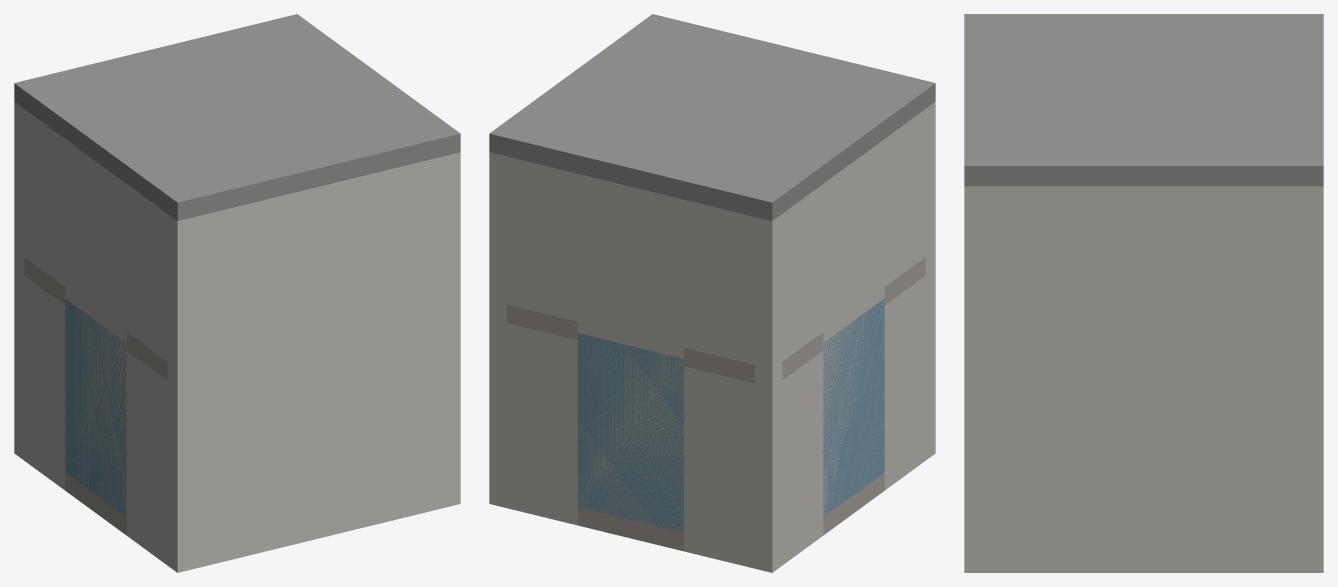
File: canal-bend-mirror.glb
3 views of the same model, side by side, from view 1: azimuth 30°, elevation 25°; view 2: azimuth 150°, elevation 25°; view 3: azimuth 270°, elevation 25° (orthographic). The views are drawn at different scales.
Visible parts, largest first — view 1: wall_3, ceiling_1, wall_10, plug_canal_west, water_2, wall_6, wall_7, plug_canal_west.001, wall_2, wall_12, wall_9, wall_1 (+4 smaller); view 2: ceiling_1, plug_canal_north, plug_canal_west, water_1, wall_4, wall_5, plug_canal_north.001, water_2, wall_7, wall_6, wall_1, wall_11 (+13 smaller); view 3: wall_2, ceiling_1, wall_9.
Boxes of the visible parts, <box> form: wall_3: <box>167,304,442,572</box>; ceiling_1: <box>14,14,460,220</box>; wall_10: <box>167,156,442,369</box>; plug_canal_west: <box>24,128,167,361</box>; water_2: <box>65,299,126,516</box>; wall_6: <box>24,276,65,490</box>; wall_7: <box>126,351,167,564</box>; plug_canal_west.001: <box>65,287,126,514</box>; wall_2: <box>443,300,460,507</box>; wall_12: <box>24,109,167,231</box>; wall_9: <box>443,152,460,304</box>; wall_1: <box>14,250,24,460</box>; ceiling_1: <box>489,14,935,220</box>; plug_canal_north: <box>507,175,754,364</box>; plug_canal_west: <box>782,128,925,361</box>; water_1: <box>577,333,683,532</box>; wall_4: <box>684,366,754,568</box>; wall_5: <box>507,323,577,525</box>; plug_canal_north.001: <box>577,322,683,531</box>; water_2: <box>823,298,884,516</box>; wall_7: <box>884,276,925,490</box>; wall_6: <box>782,351,823,564</box>; wall_1: <box>754,362,782,572</box>; wall_11: <box>507,156,754,235</box>; wall_2: <box>964,349,1323,572</box>; ceiling_1: <box>964,14,1323,186</box>; wall_9: <box>964,186,1323,348</box>.
Bounding box in the file's own units: 8 × 10 × 8.
